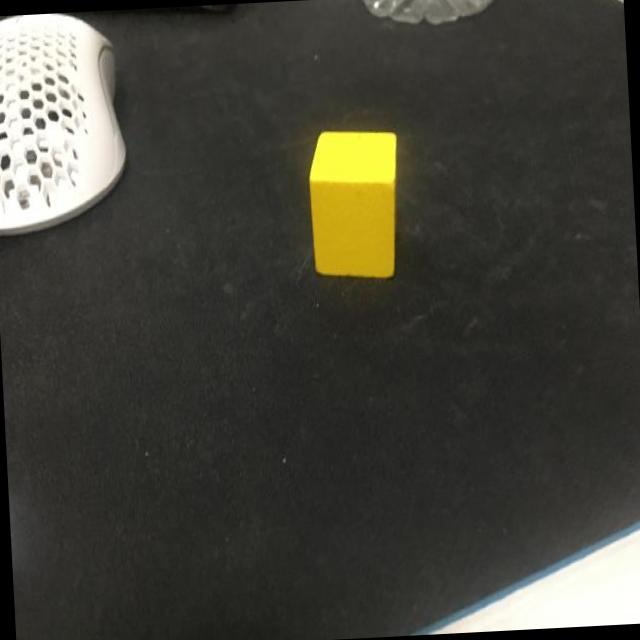yellow: (307, 128, 404, 282)
